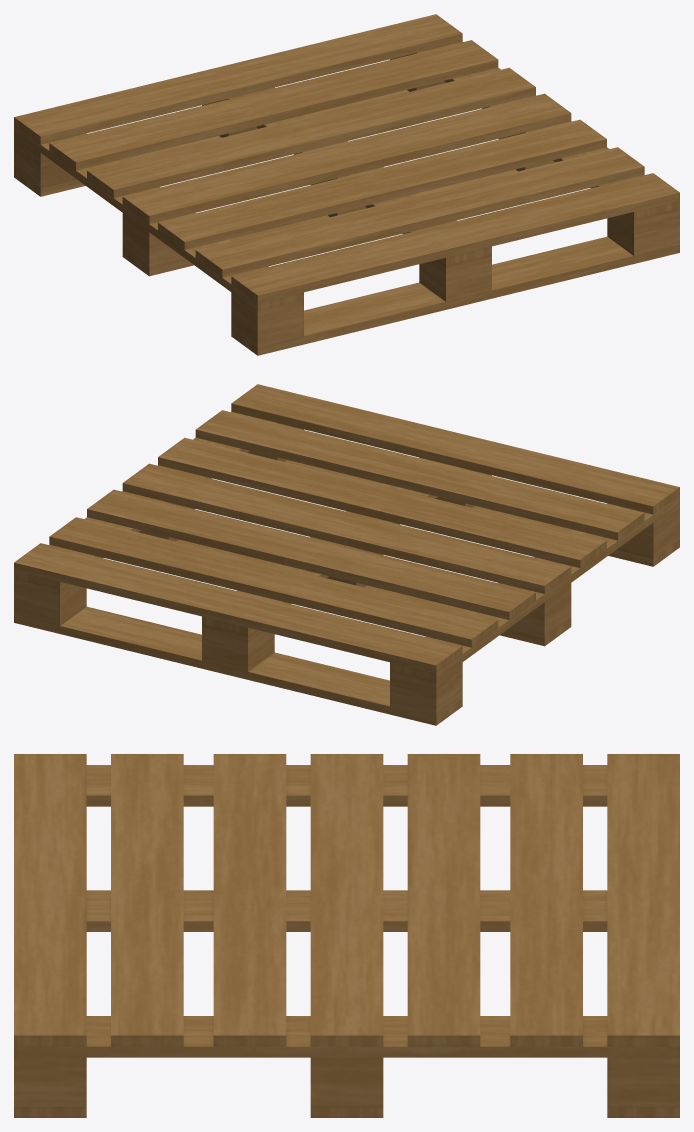
File: ob_Pallet_wood1.fbx
3 renders of one model, top to bottom at view 1: azimuth 30°, elevation 25°; view 2: azimuth 150°, elevation 25°; view 3: azimuth 270°, elevation 25°, orthographic. The views are drawn at different scales.
Visible parts, largest first — view 1: Pallet_Wood1; view 2: Pallet_Wood1; view 3: Pallet_Wood1.
Part boxes in pixels (box(x1,y1,x2,y2)): Pallet_Wood1: box(14, 14, 679, 355); Pallet_Wood1: box(14, 384, 679, 725); Pallet_Wood1: box(14, 754, 679, 1117).
Bounding box in the file's own units: 110 × 15 × 110.
